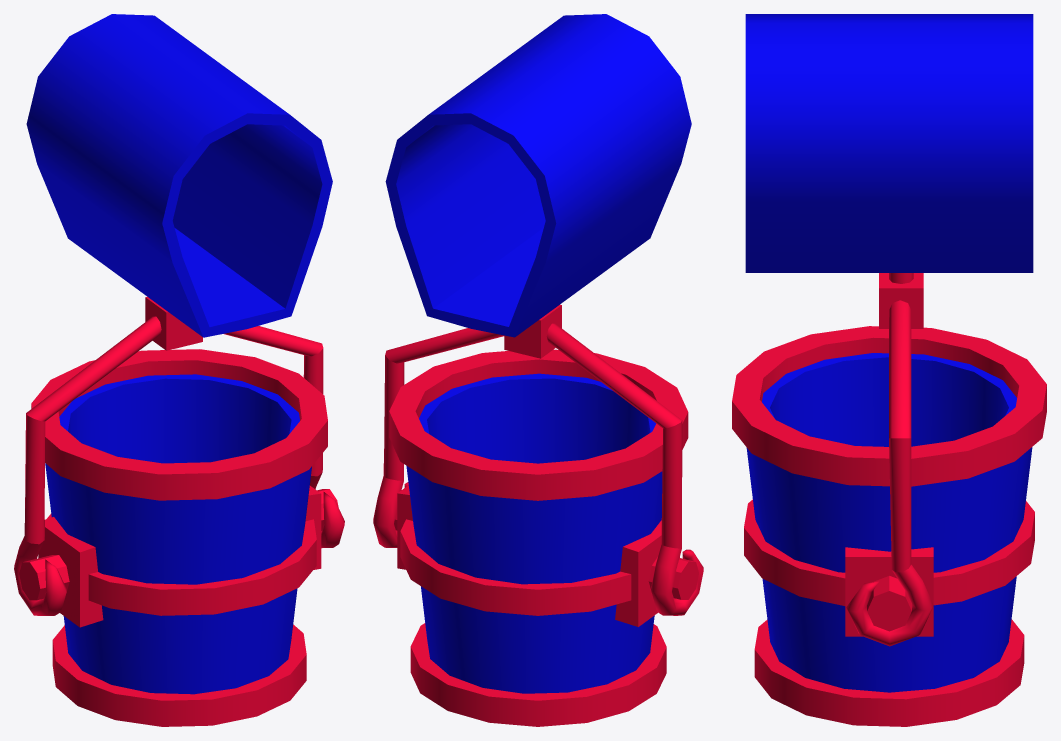
Rendered from CastingRoom_BigCrucible.fbx.
The picture shows the model from 3 angles, left to right: view 1: azimuth 30°, elevation 25°; view 2: azimuth 150°, elevation 25°; view 3: azimuth 270°, elevation 25°; orthographic projection. The views are drawn at different scales.
Parts seen in each view (by area): view 1: CastingRoom_BigCrucible.001, CastingRoom_BigCrucible; view 2: CastingRoom_BigCrucible.001, CastingRoom_BigCrucible; view 3: CastingRoom_BigCrucible.001, CastingRoom_BigCrucible.
Boxes of the visible parts, x1,y1,x2,y2 form: CastingRoom_BigCrucible.001: [31, 349, 327, 726]; CastingRoom_BigCrucible: [14, 14, 344, 627]; CastingRoom_BigCrucible.001: [389, 349, 688, 726]; CastingRoom_BigCrucible: [373, 14, 703, 626]; CastingRoom_BigCrucible.001: [732, 326, 1046, 726]; CastingRoom_BigCrucible: [745, 14, 1033, 646].
Bounding box in the file's own units: 401 × 778 × 343.
